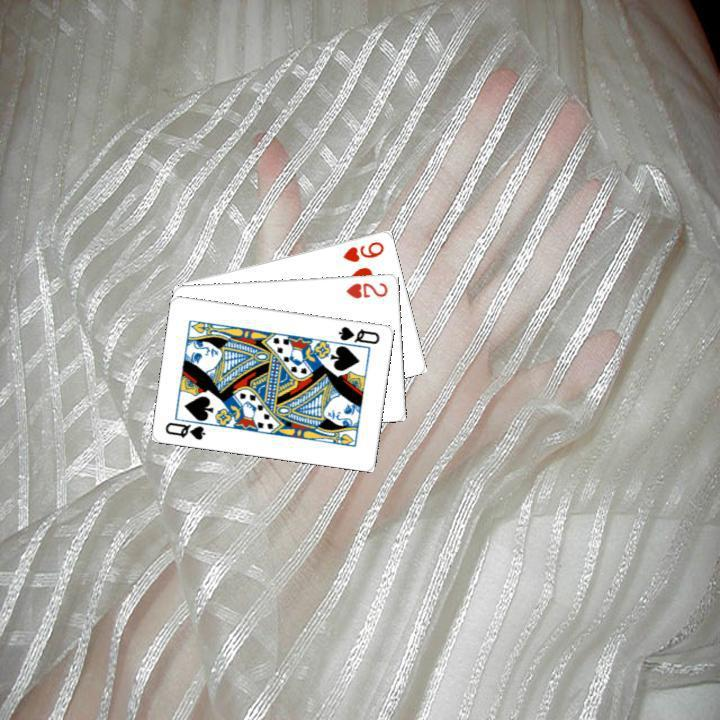2: (342, 278, 390, 300)
9: (339, 236, 386, 264)
Q: (334, 322, 382, 346), (161, 418, 208, 442)
